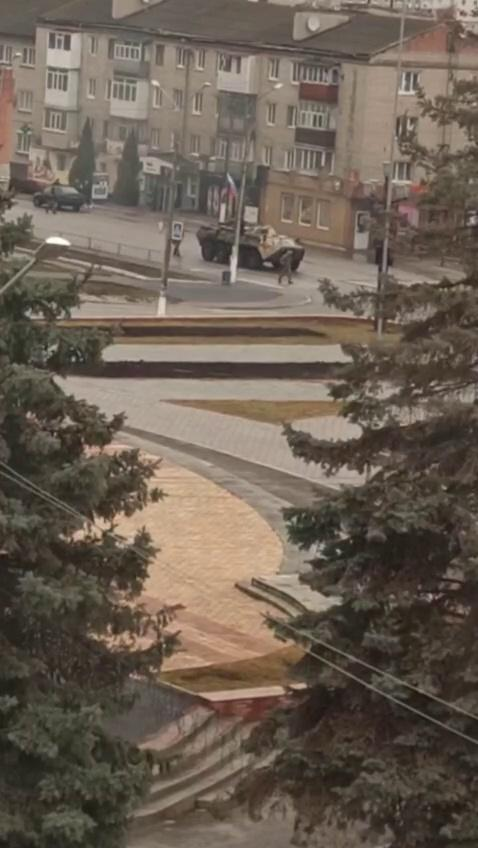car: (31, 184, 85, 212)
person: (277, 250, 294, 286)
tank: (196, 222, 306, 270)
